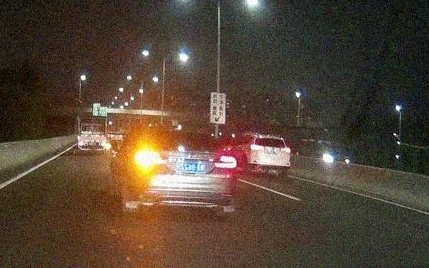L_light: (133, 151, 162, 166), (250, 144, 262, 151)
R_light: (213, 155, 238, 169), (280, 147, 291, 153)
T_light: (172, 130, 187, 134), (266, 137, 275, 140)
night-left: (123, 129, 239, 217)
night-no: (248, 134, 291, 176)
